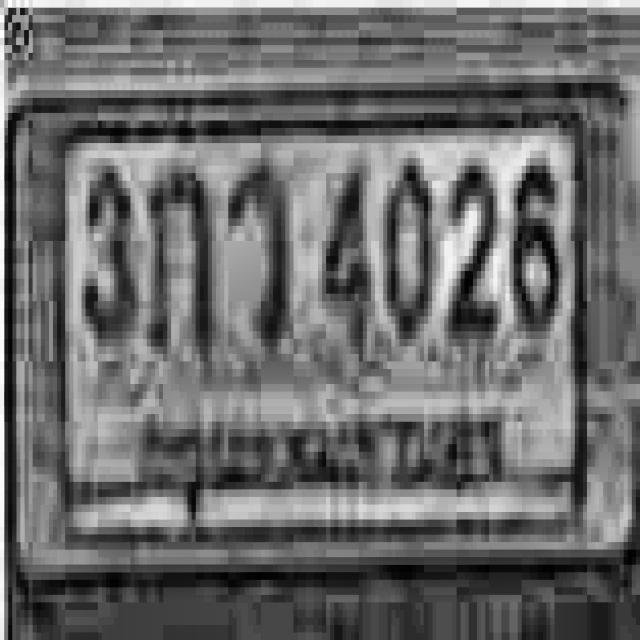license-plate: (6, 69, 640, 576)
